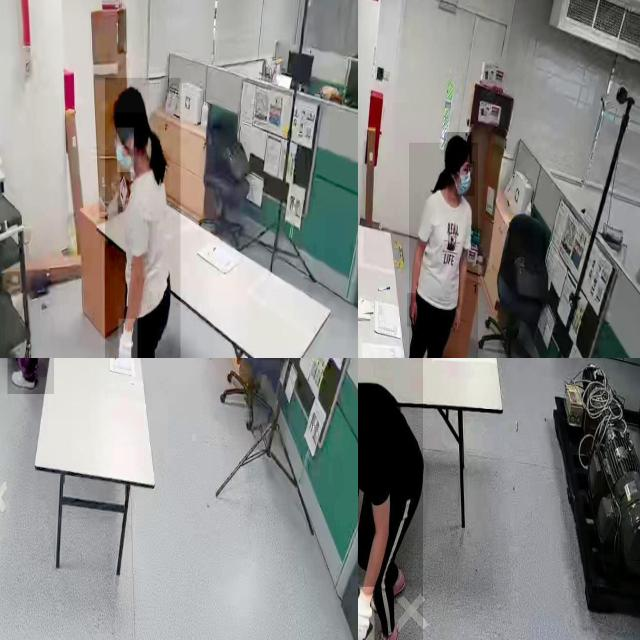face_mask: (452, 161, 474, 196), (117, 128, 134, 172)
hand_glove: (358, 587, 375, 640), (118, 319, 137, 358)
hand_noglove: (407, 293, 417, 327), (452, 301, 460, 334)
head_nohelmet: (114, 85, 146, 113), (444, 132, 472, 163)
person: (105, 77, 181, 358), (358, 358, 423, 640), (409, 142, 478, 358)
shoes: (8, 363, 38, 393), (364, 617, 403, 640)
